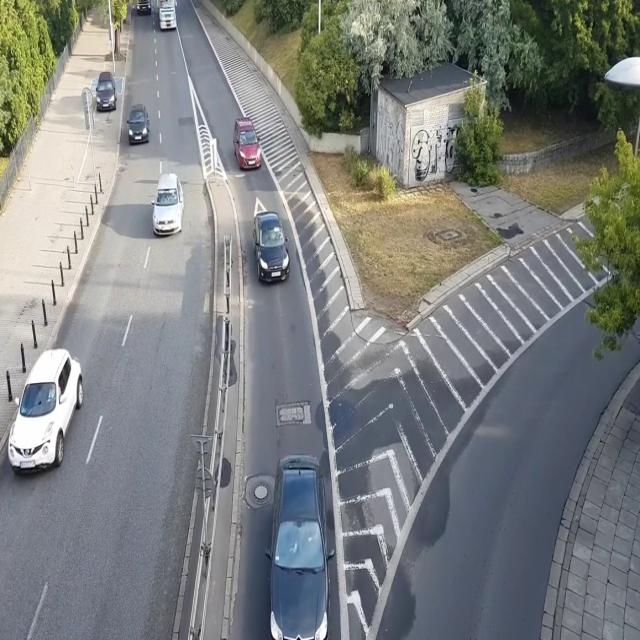car: (263, 453, 332, 640), (7, 348, 84, 472), (252, 210, 291, 287), (151, 170, 185, 238), (233, 117, 263, 170), (127, 102, 150, 144), (96, 71, 118, 112)
truck: (154, 0, 178, 32), (134, 0, 152, 17)
